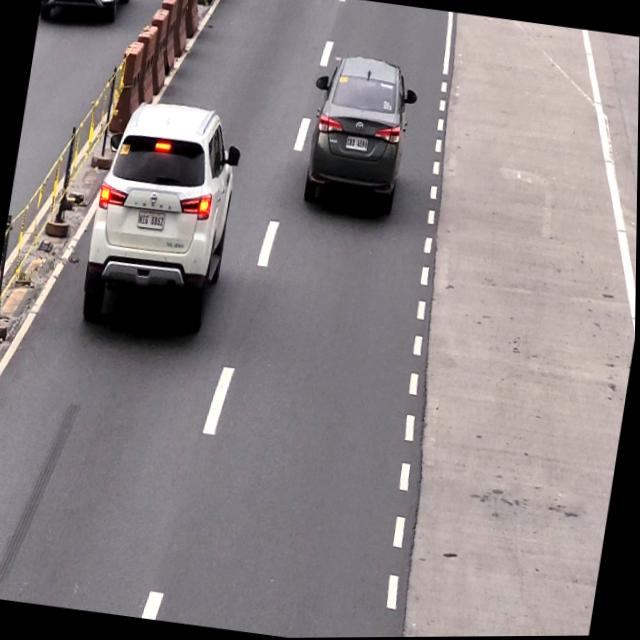Car: (86, 97, 242, 322), (302, 51, 417, 215)
License-Plate: (136, 209, 168, 235), (345, 135, 371, 153)
